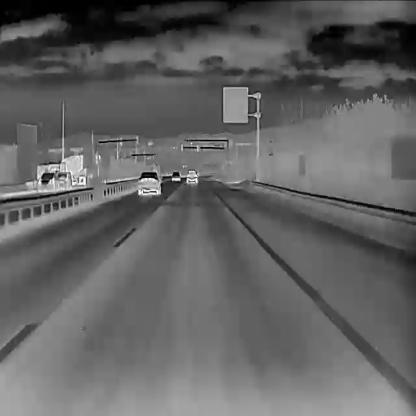car: (137, 171, 161, 194), (35, 170, 60, 192), (54, 170, 71, 190), (185, 168, 198, 184), (170, 171, 181, 181)
truck: (35, 152, 87, 188)
